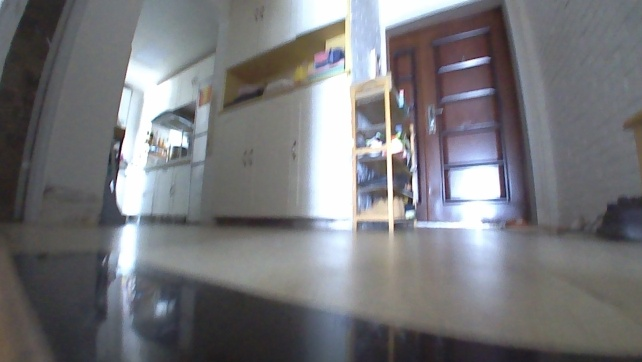door_anno: (386, 4, 531, 226)
